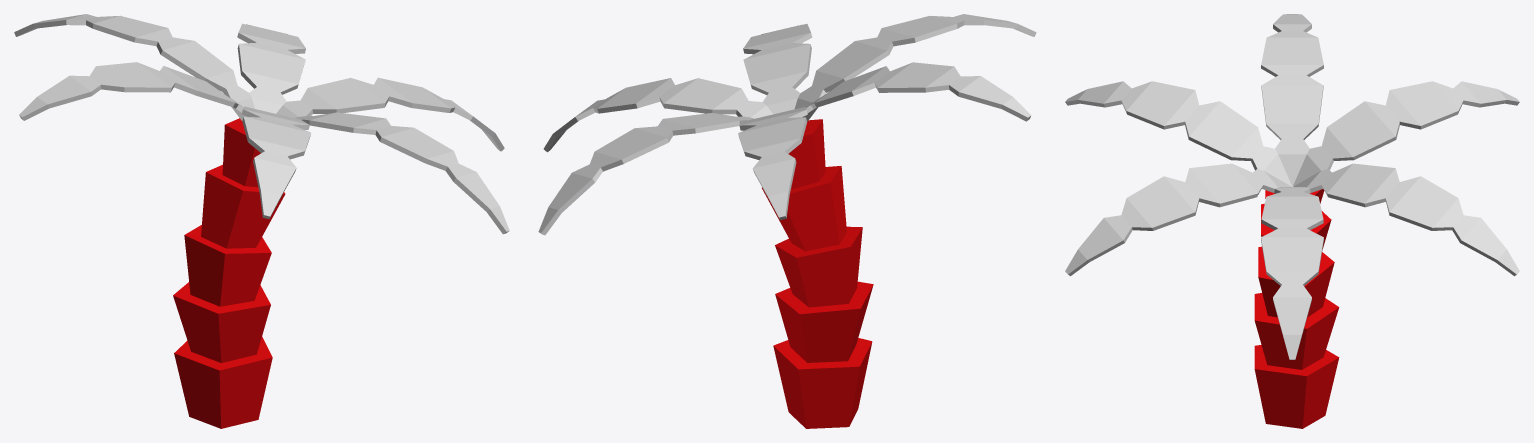
File: PalmTree.fbx
3 views of the same model, side by side, from view 1: azimuth 30°, elevation 25°; view 2: azimuth 150°, elevation 25°; view 3: azimuth 270°, elevation 25° (orthographic). The views are drawn at different scales.
Parts seen in each view (by area): view 1: Cylinder; view 2: Cylinder; view 3: Cylinder.
Boxes of the visible parts, box(x1,y1,x2,y2) form: Cylinder: box(14, 14, 509, 428); Cylinder: box(538, 14, 1036, 428); Cylinder: box(1065, 14, 1519, 428).
Size of the model in its own units: 1069 by 773 by 971.
